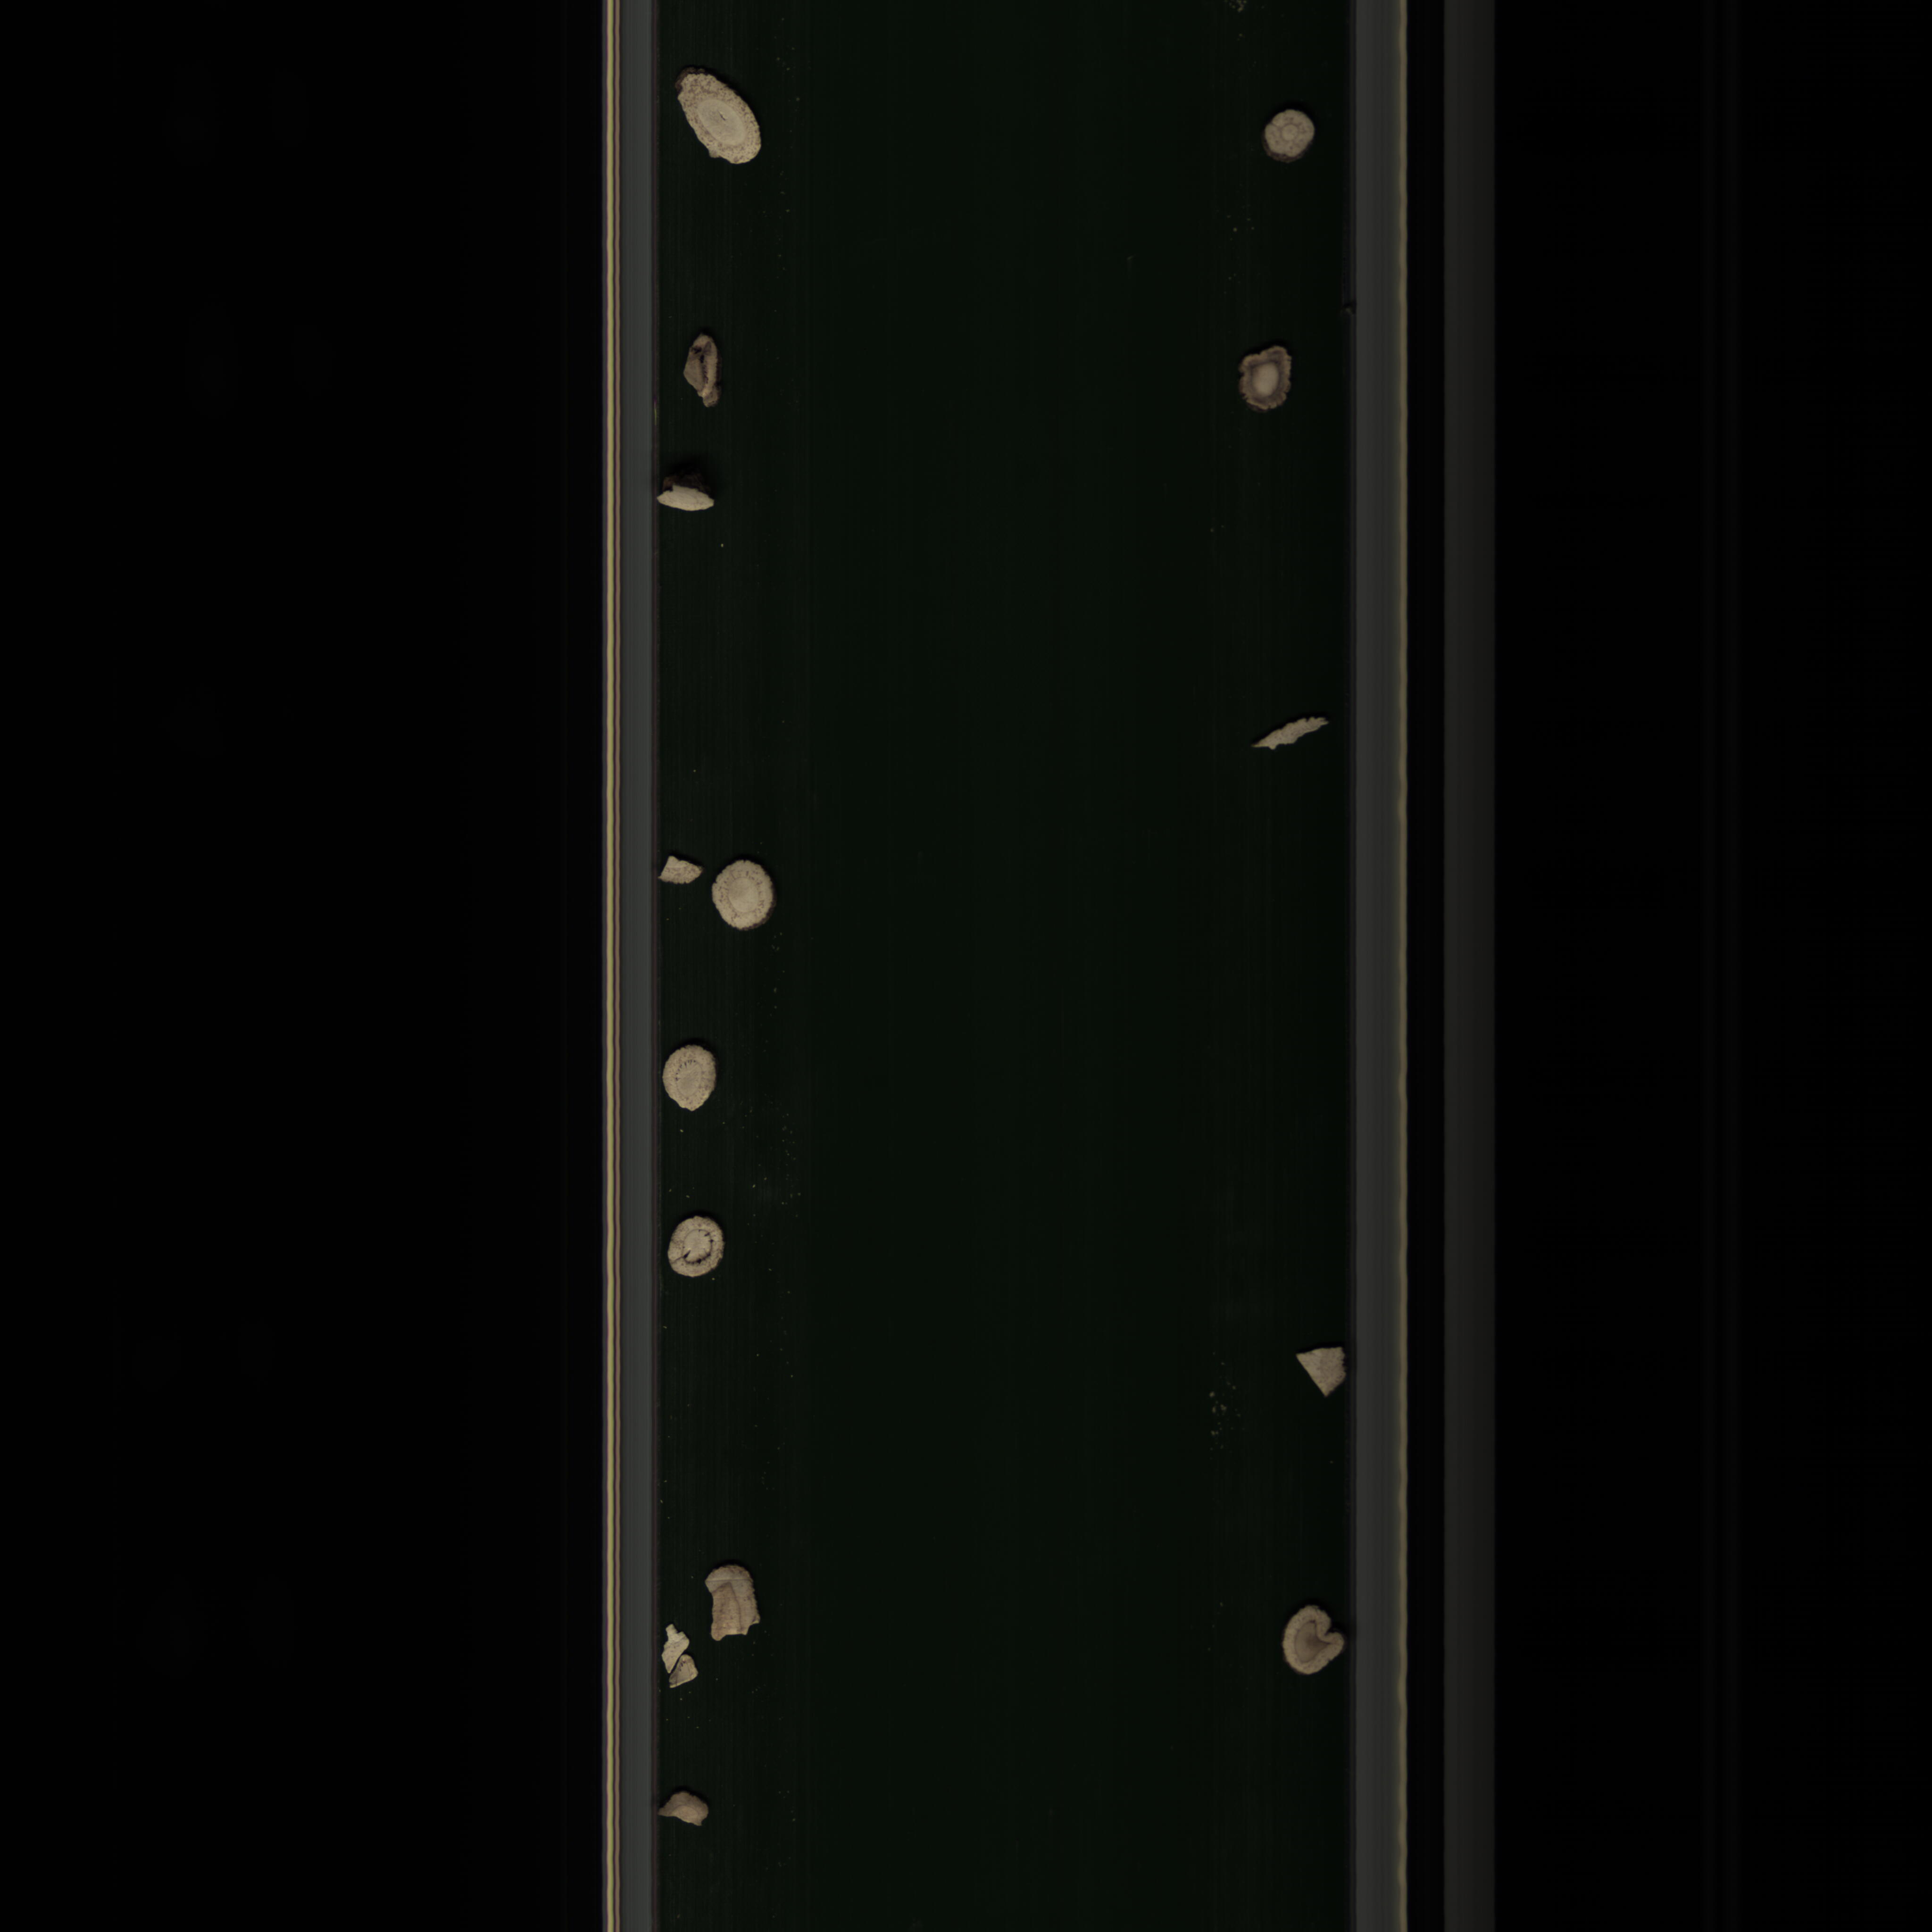bark: (679, 324, 731, 414)
debris: (695, 1560, 773, 1647), (1284, 1343, 1353, 1401), (1244, 715, 1339, 755), (655, 1621, 702, 1693), (653, 471, 718, 522), (656, 1785, 717, 1831), (655, 853, 708, 890)
distortion: (1283, 1601, 1345, 1688)
hole: (663, 1215, 729, 1286)
moldy: (1233, 340, 1293, 430)
